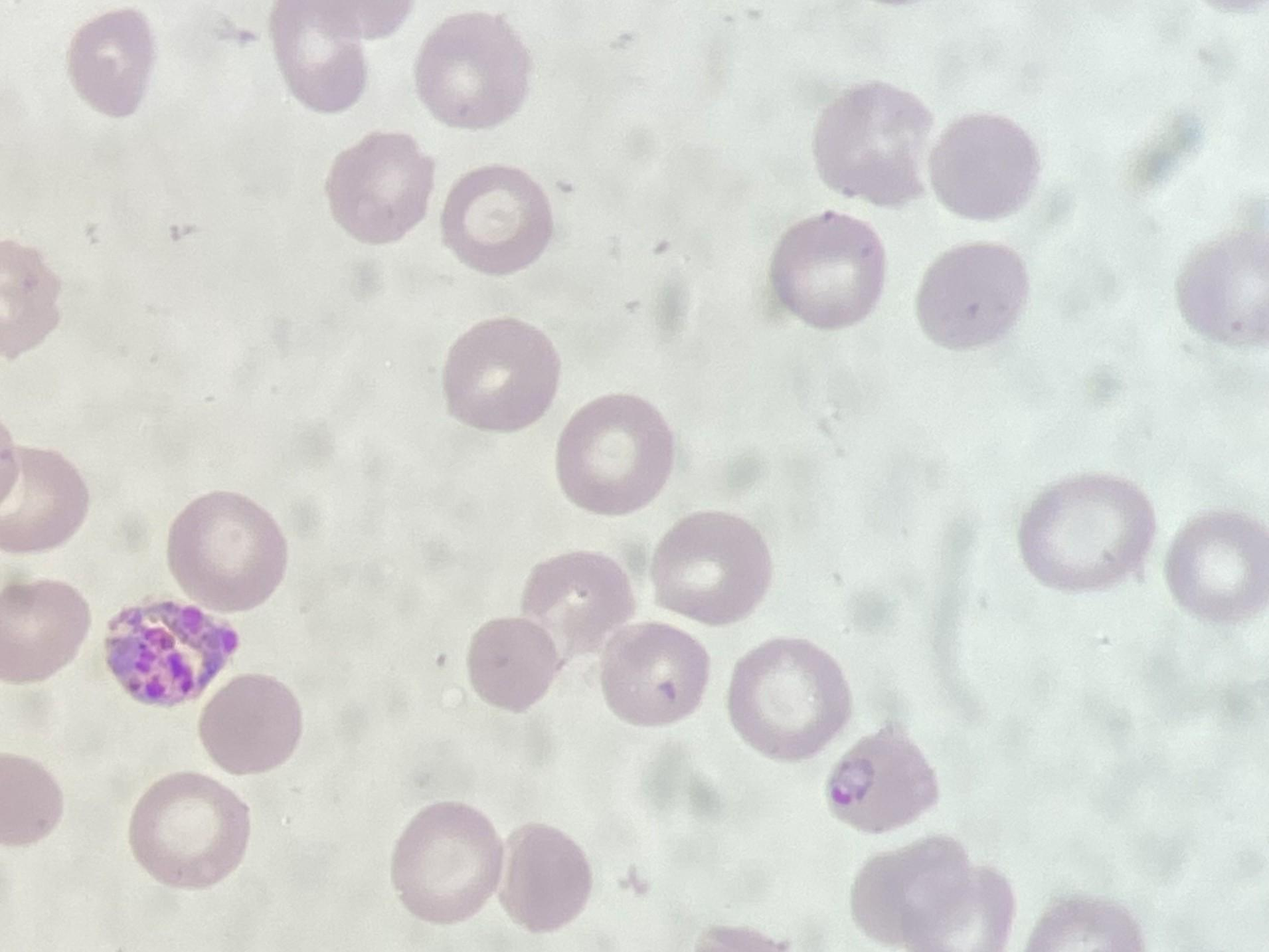Infected: (102, 594, 243, 708), (821, 725, 936, 838)
Uninfected: (1025, 468, 1162, 584), (166, 486, 288, 613), (812, 78, 929, 205), (724, 641, 852, 756), (653, 508, 771, 629), (124, 774, 249, 888), (409, 7, 522, 133), (560, 399, 677, 520), (383, 800, 498, 919), (764, 216, 883, 328), (914, 233, 1028, 349), (443, 322, 560, 428), (447, 158, 550, 273), (934, 111, 1038, 222), (325, 138, 436, 242), (525, 552, 631, 659), (197, 670, 300, 779), (1171, 512, 1269, 626), (274, 0, 370, 114), (600, 619, 700, 722), (859, 849, 969, 940), (496, 822, 585, 932), (0, 448, 89, 558), (60, 12, 151, 118), (0, 583, 88, 686), (467, 616, 560, 706), (910, 871, 1007, 952)
